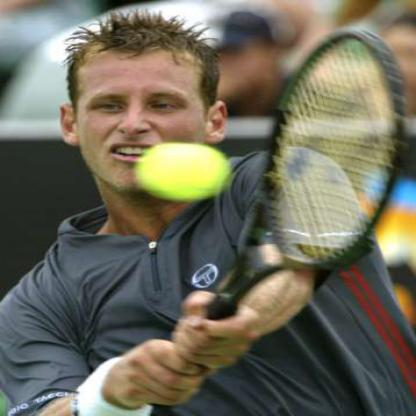face: (74, 26, 213, 198), (207, 14, 269, 92)
